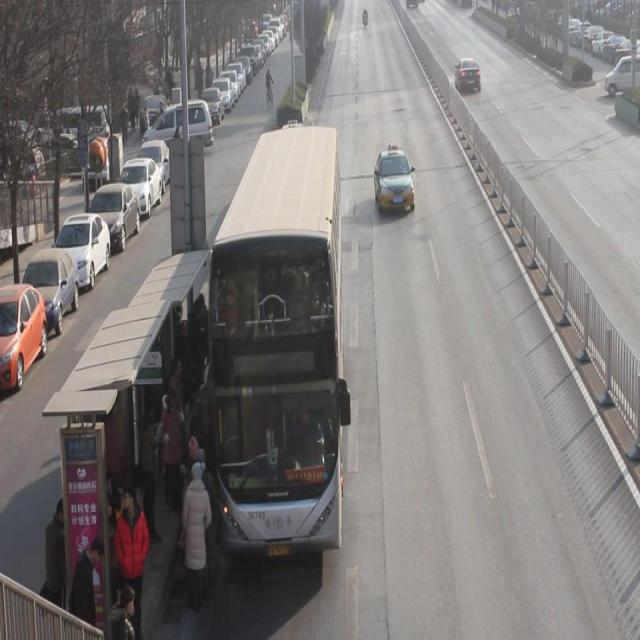car: (374, 143, 418, 220), (453, 58, 484, 96)
truck: (604, 51, 640, 93)
van: (208, 130, 344, 546)
